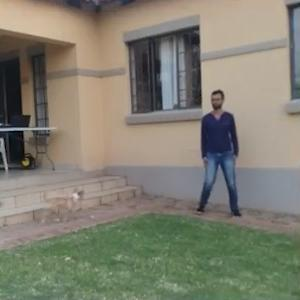follow: (189, 93, 227, 219)
